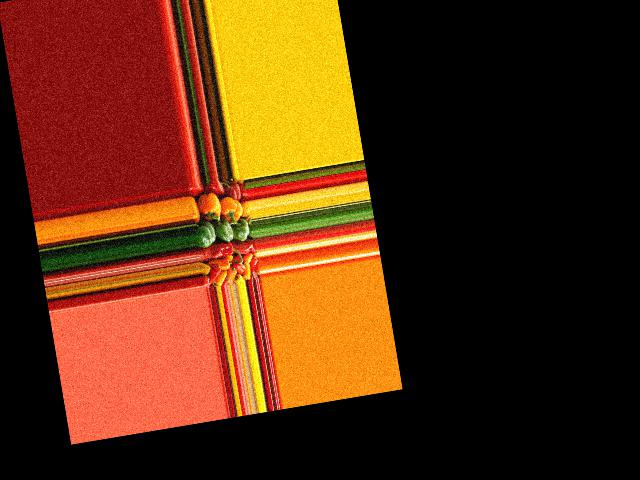bell_pepper: (205, 264, 223, 285)
